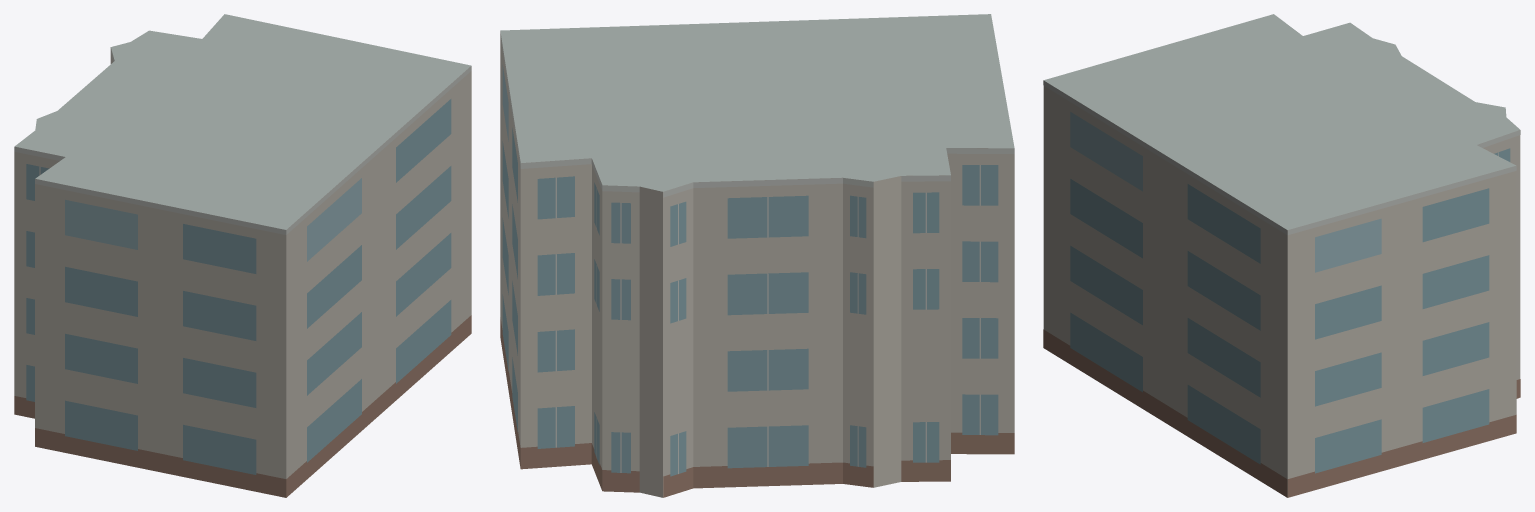
The model's file is survey-upis-33002998.glb.
3 views of the same model, side by side, from view 1: azimuth 30°, elevation 25°; view 2: azimuth 150°, elevation 25°; view 3: azimuth 270°, elevation 25° (orthographic). The views are drawn at different scales.
Visible parts, largest first — view 1: survey-upis-33002998.tmp; view 2: survey-upis-33002998.tmp; view 3: survey-upis-33002998.tmp.
Part boxes in pixels (<box>): survey-upis-33002998.tmp: <box>14,14,471,497</box>; survey-upis-33002998.tmp: <box>500,14,1014,497</box>; survey-upis-33002998.tmp: <box>1043,14,1520,497</box>.
Bounding box in the file's own units: 22 × 12.7 × 20.52.
